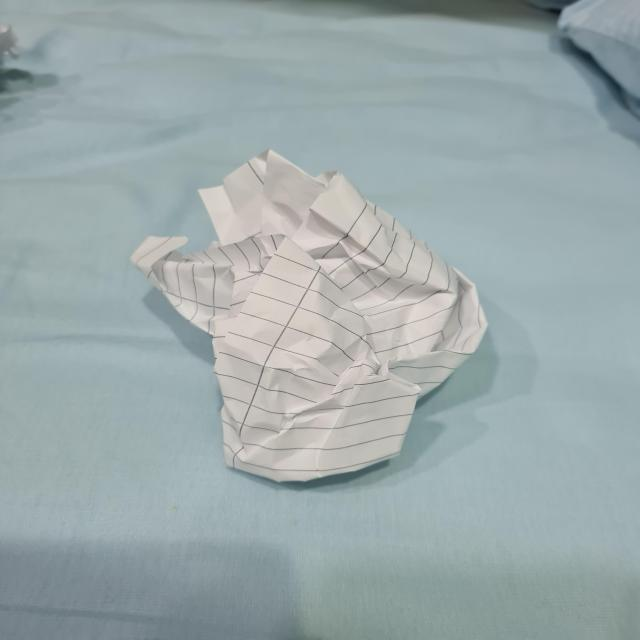trash: (134, 150, 490, 478)
